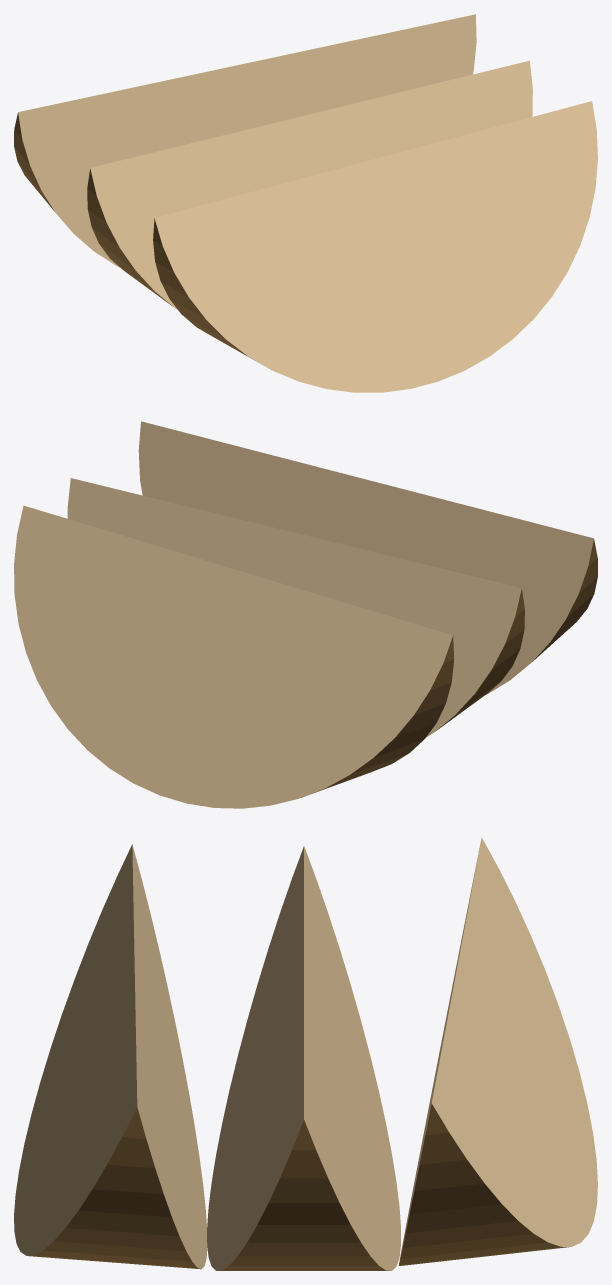
File: CutPotato.fbx
3 renders of one model, top to bottom at view 1: azimuth 30°, elevation 25°; view 2: azimuth 150°, elevation 25°; view 3: azimuth 270°, elevation 25°, orthographic. The views are drawn at different scales.
Visible parts, largest first — view 1: Sphere.004; view 2: Sphere.004; view 3: Sphere.004.
Boxes of the visible parts, box(x1,y1,x2,y2) form: Sphere.004: box(14, 14, 597, 392); Sphere.004: box(14, 421, 597, 808); Sphere.004: box(14, 837, 597, 1270).
Size of the model in its own units: 2.01 by 0.917 by 1.8.
